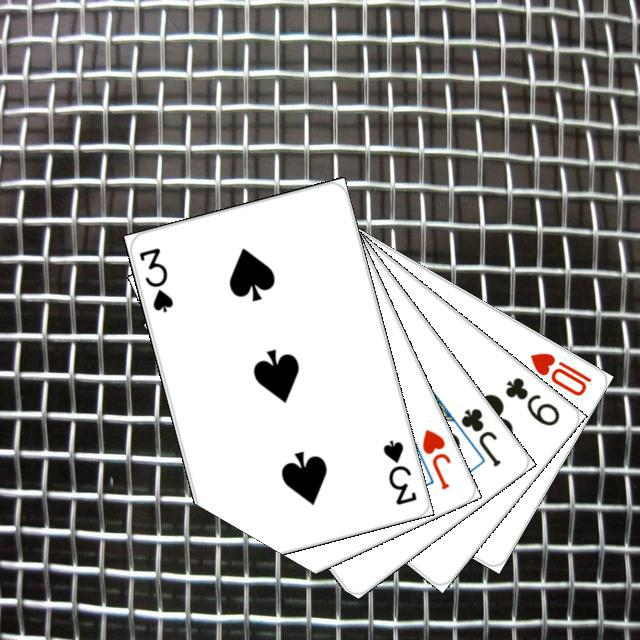10h: (525, 347, 594, 398)
3s: (377, 435, 419, 507), (134, 242, 175, 314)
9c: (500, 372, 562, 428)
Jc: (455, 403, 503, 469)
Jh: (417, 424, 453, 491)
